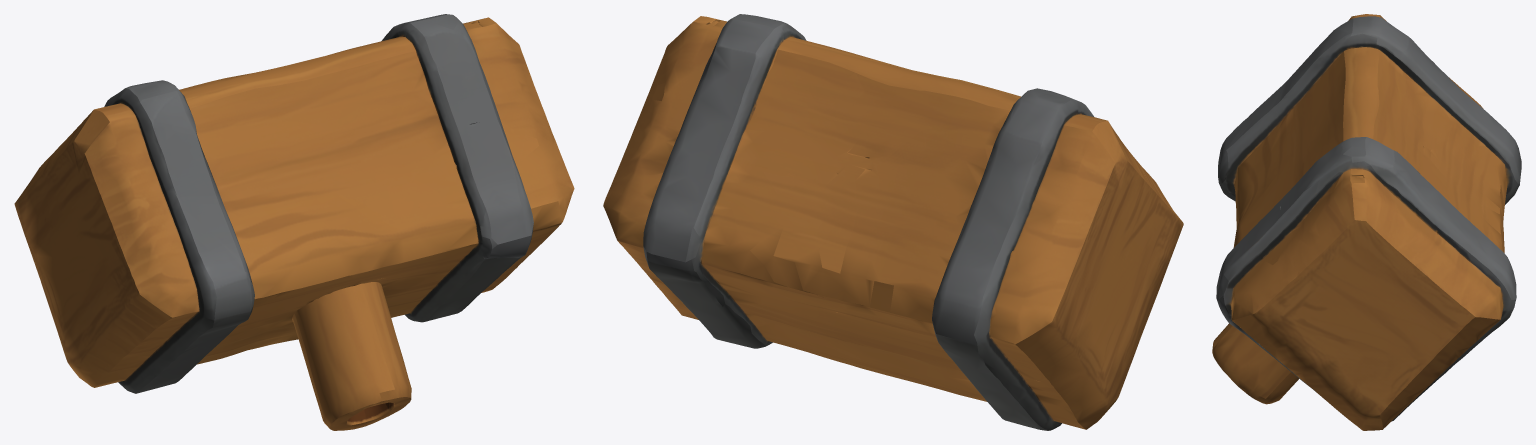
File: PROP_C1_HAMMER.glb
3 renders of one model, left to right at view 1: azimuth 30°, elevation 25°; view 2: azimuth 150°, elevation 25°; view 3: azimuth 270°, elevation 25°, orthographic. The views are drawn at different scales.
Visible parts, largest first — view 1: world; view 2: world; view 3: world.
Part boxes in pixels (left/top/right/bottom): world: left=14, top=14, right=574, bottom=430; world: left=603, top=14, right=1183, bottom=430; world: left=1212, top=14, right=1521, bottom=430.
Size of the model in its own units: 0.9976 by 0.7525 by 0.6807.
1 material, 1 textured.
